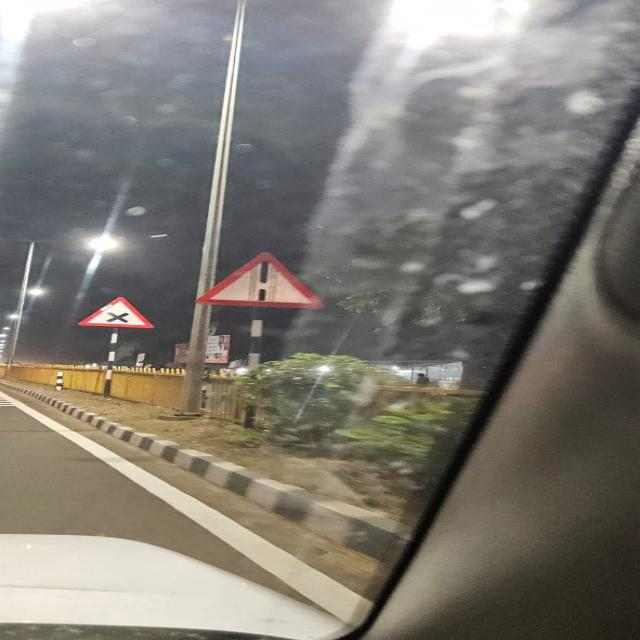Crossroads: (55, 298, 172, 333)
gap_in_median: (212, 250, 347, 324)
